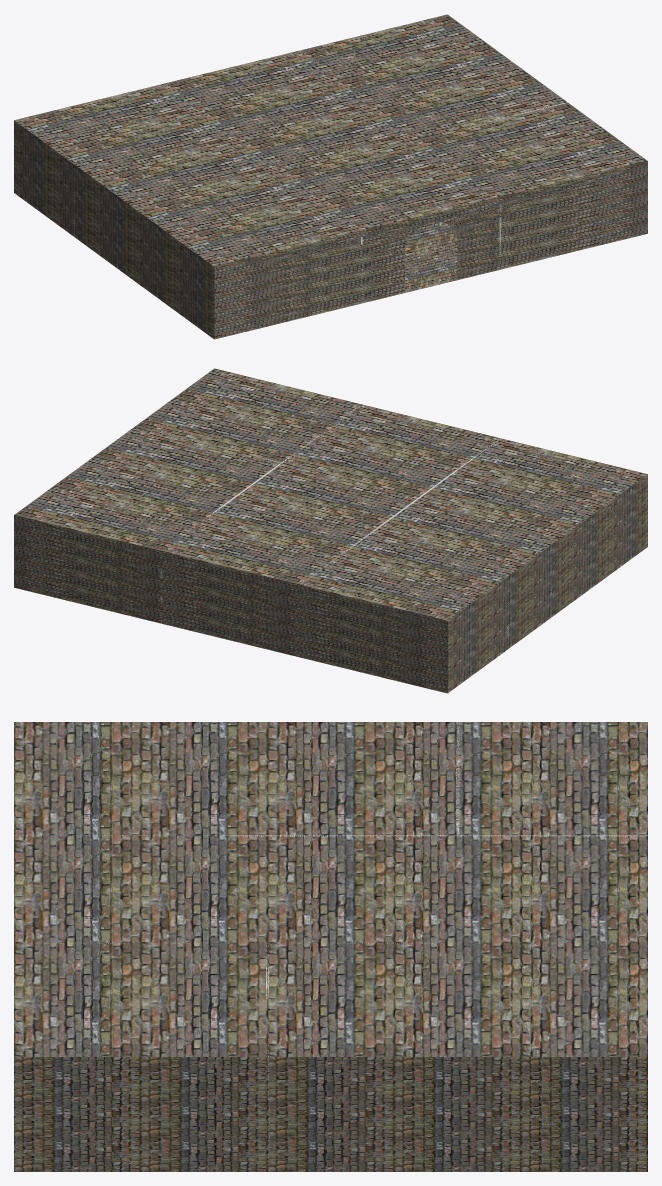
File: FirstFloor.glb
3 views of the same model, one above another, from view 1: azimuth 30°, elevation 25°; view 2: azimuth 150°, elevation 25°; view 3: azimuth 270°, elevation 25° (orthographic). The views are drawn at different scales.
Parts seen in each view (by area): view 1: FirstFloorOuterWalls; view 2: FirstFloorOuterWalls; view 3: FirstFloorOuterWalls, Wall_3.
Part boxes in pixels (x1,y1,x2,y2): FirstFloorOuterWalls: [14, 14, 647, 339]; FirstFloorOuterWalls: [14, 368, 647, 693]; FirstFloorOuterWalls: [14, 722, 647, 1171]; Wall_3: [14, 835, 647, 836].
Bounding box in the file's own units: 25 × 4 × 20.
Materials: 1 (1 with a texture image).
